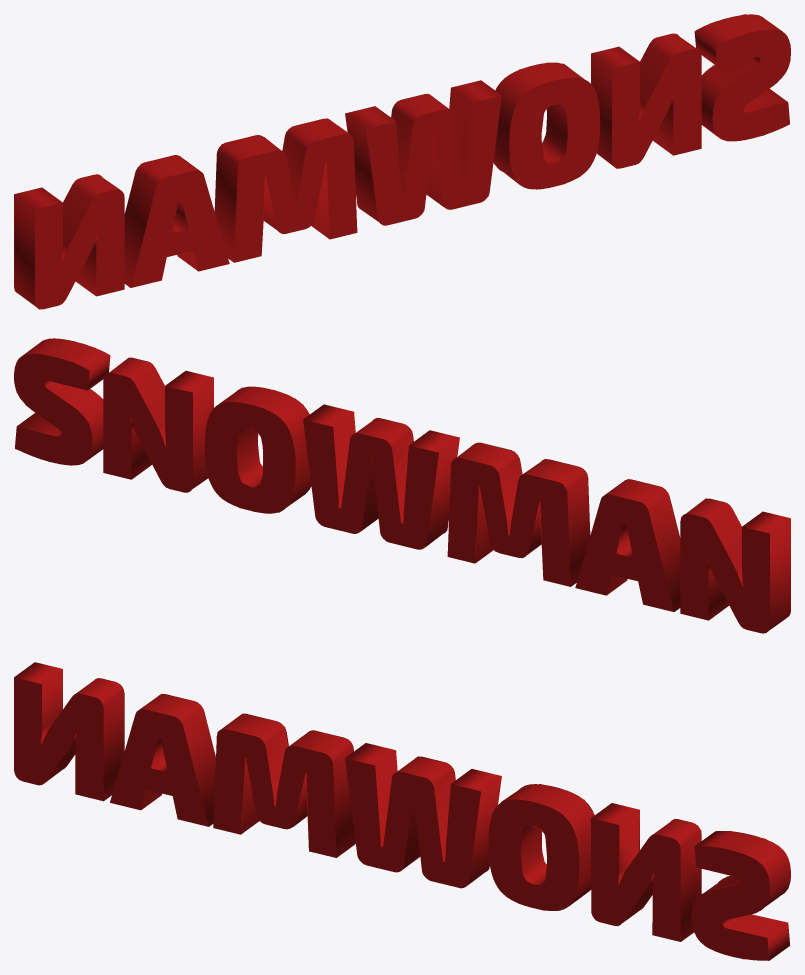
Rendered from snowman.fbx.
3 renders of one model, top to bottom at view 1: azimuth 30°, elevation 25°; view 2: azimuth 150°, elevation 25°; view 3: azimuth 330°, elevation 25°, orthographic.
Parts seen in each view (by area): view 1: Text; view 2: Text; view 3: Text.
Boxes of the visible parts, bbox=[...] form: Text: bbox=[14, 14, 790, 309]; Text: bbox=[14, 338, 790, 633]; Text: bbox=[14, 662, 790, 960].
Bounding box in the file's own units: 16.76 × 2.26 × 0.8001.
